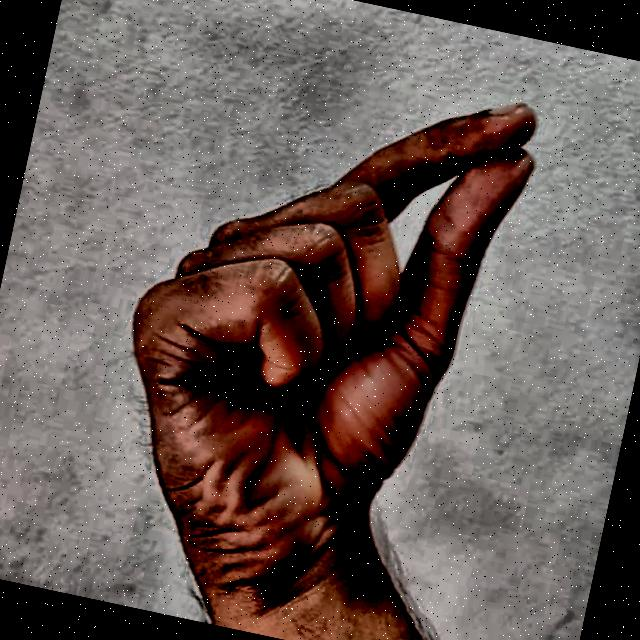Anusshar: (45, 0, 578, 640)
